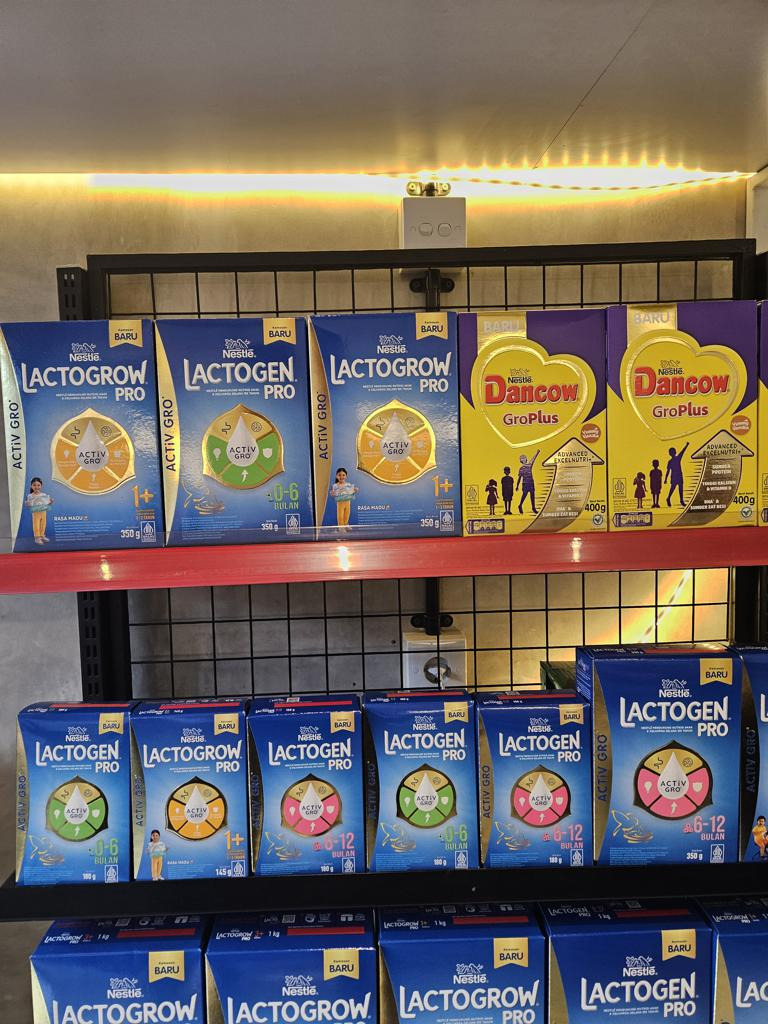LACTOGEN PRO 0-6 mo 24x350g ID: (155, 314, 318, 547)
LACTOGEN PRO 0-6 mo 40x180g ID: (11, 709, 134, 886), (360, 698, 481, 872)
LACTOGEN PRO 6-12 mo 24x350g ID: (590, 655, 741, 865)
LACTOGEN PRO 6-12 mo 40x180g ID: (246, 708, 366, 875), (476, 704, 595, 866)
LACTOGROW PRO 1+ Honey 24x350g ID: (0, 317, 164, 552), (304, 309, 464, 538)
LACTOGROW PRO 1+ Honey 40x145g ID: (127, 709, 251, 877)
